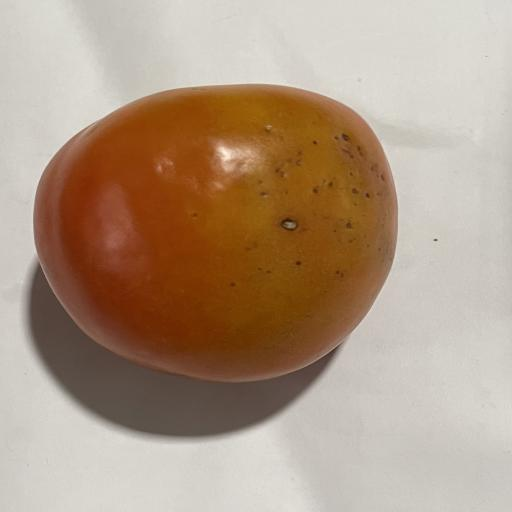unripe: (34, 85, 397, 382)
